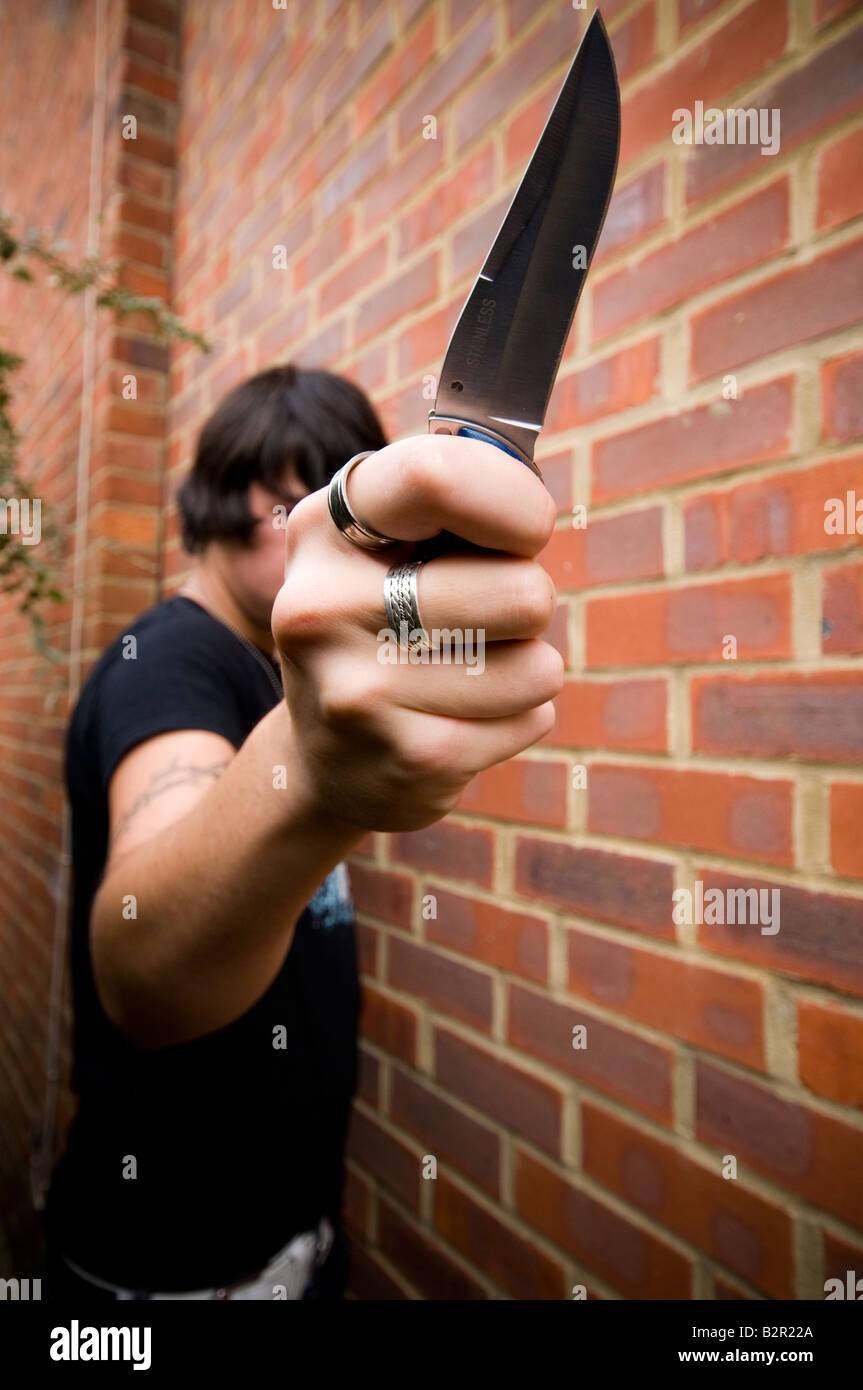Knife: (66, 368, 426, 1306), (268, 424, 562, 828), (430, 8, 626, 426)
